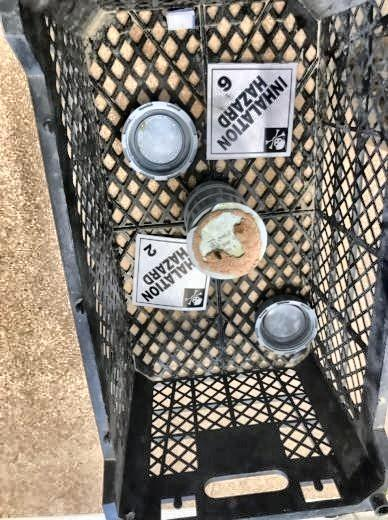poison: (206, 64, 293, 158), (133, 230, 210, 312)
